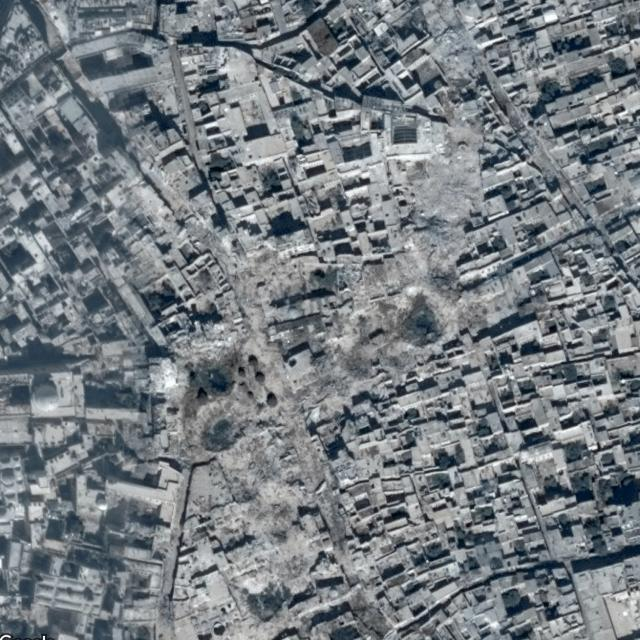damaged_building: (160, 23, 490, 634)
